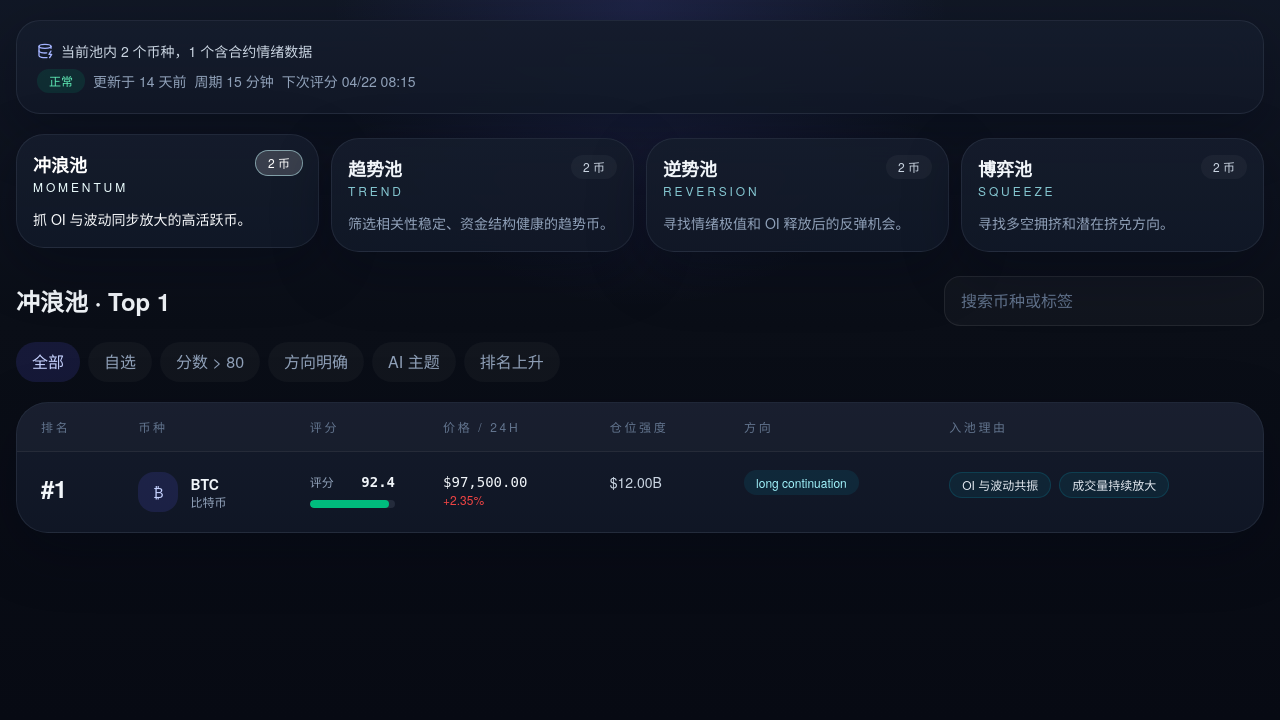
RankingExplorer › switches pools and updates the visible heading
Expected: the heading "冲浪池 · Top 1" is shown, top-left (16, 285), bottom-right (170, 317)
Click the button "逆势池 Reversion 2 币 寻找情绪极值和 OI 释放后的反弹机会。". click: (690, 169)
box: top-left (646, 138), bottom-right (949, 252)
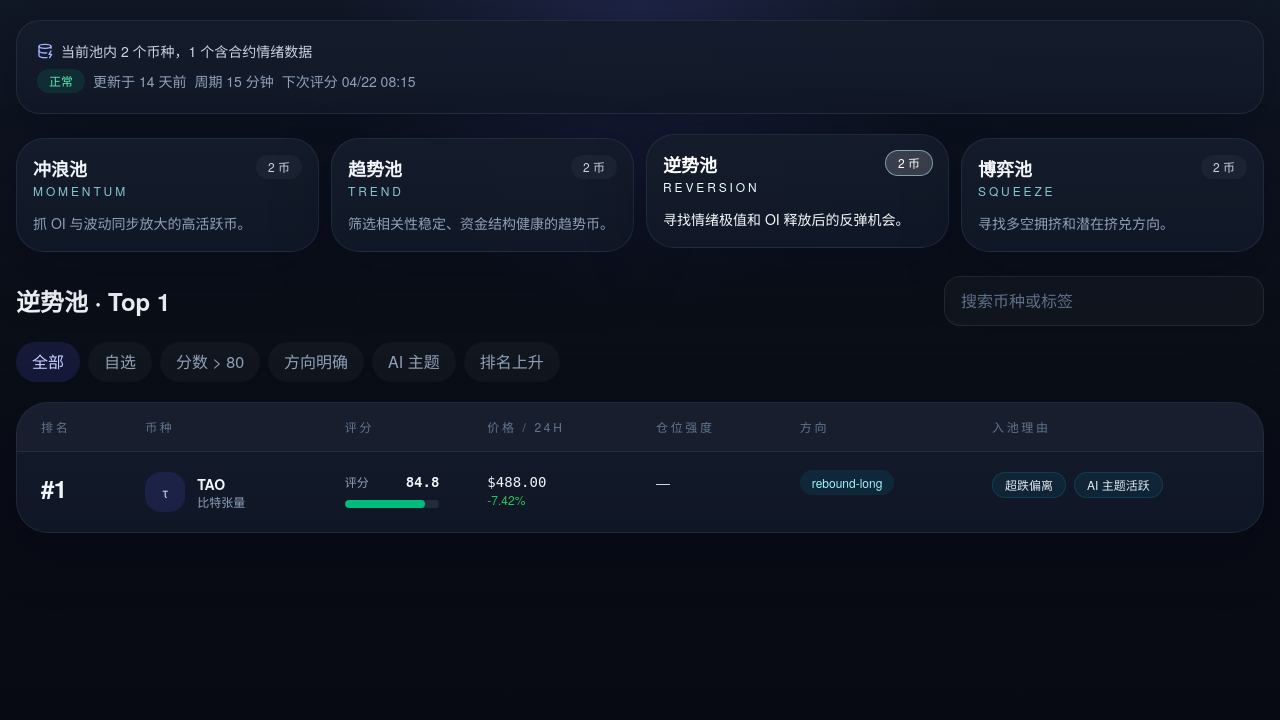
Result: the heading "逆势池 · Top 1" is shown at top-left (16, 285), bottom-right (170, 317)
Result: the text "比特张量" is shown at top-left (197, 494), bottom-right (245, 510)
